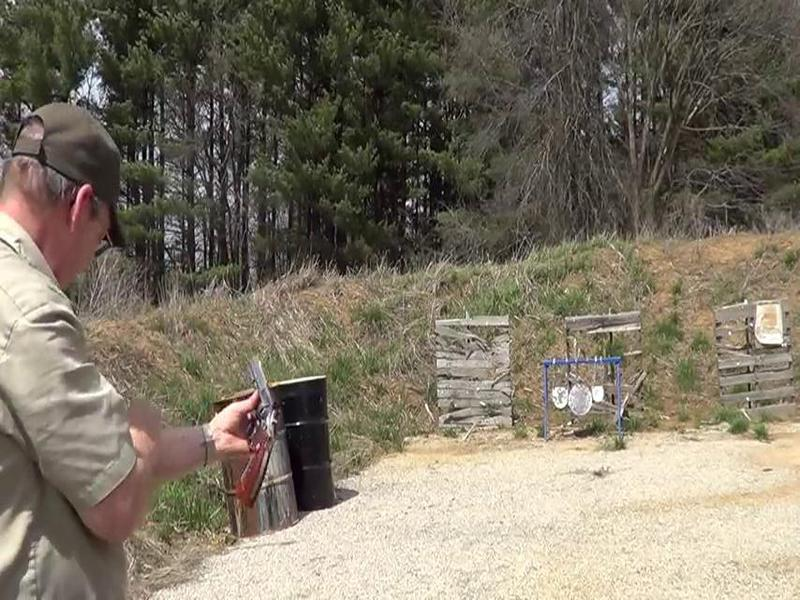Revolver: (210, 349, 299, 511)
